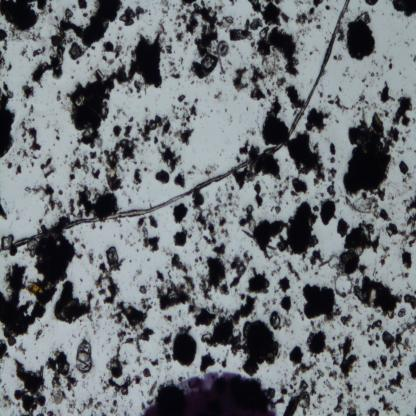Background material: (67, 28, 165, 151), (0, 229, 75, 339), (30, 0, 125, 85), (341, 109, 398, 198), (186, 0, 220, 85), (240, 321, 282, 376), (354, 275, 404, 320), (193, 240, 230, 300), (258, 25, 299, 79), (240, 217, 288, 263), (191, 191, 237, 239), (101, 136, 139, 193), (284, 200, 320, 260), (290, 130, 328, 185), (13, 355, 47, 416), (154, 266, 197, 314), (94, 246, 128, 304), (54, 278, 92, 328), (67, 182, 119, 218), (333, 217, 382, 253), (199, 314, 242, 355), (300, 284, 344, 324), (258, 95, 291, 146), (346, 10, 378, 62), (23, 182, 67, 218), (333, 379, 371, 416), (0, 0, 48, 28), (106, 330, 135, 376), (46, 349, 78, 389), (286, 358, 322, 393), (237, 158, 279, 188), (0, 81, 15, 161), (106, 302, 146, 332), (68, 149, 102, 183), (171, 321, 196, 366), (20, 119, 42, 170), (230, 249, 256, 291), (396, 196, 416, 248), (379, 330, 406, 368), (135, 216, 161, 252), (322, 253, 361, 277), (171, 92, 198, 126), (339, 335, 359, 380), (302, 104, 332, 134), (258, 295, 282, 330), (76, 396, 118, 416), (372, 370, 406, 394), (230, 295, 259, 323), (99, 376, 135, 398), (188, 300, 216, 328), (356, 319, 384, 346), (282, 390, 310, 416), (158, 142, 183, 171), (136, 114, 160, 144), (247, 267, 272, 294), (165, 43, 180, 87), (0, 27, 14, 74), (392, 96, 413, 127), (100, 40, 124, 67), (396, 310, 416, 342), (250, 65, 266, 104), (76, 338, 93, 374), (229, 18, 252, 44), (135, 324, 156, 352), (398, 161, 416, 193), (330, 274, 354, 297), (238, 136, 260, 161), (118, 7, 148, 25), (308, 331, 327, 359), (324, 344, 338, 381), (319, 199, 338, 226), (377, 395, 401, 416), (239, 205, 256, 234), (88, 300, 102, 335), (20, 45, 47, 63), (262, 3, 282, 27), (160, 326, 172, 366), (286, 86, 304, 112), (295, 6, 318, 26), (171, 252, 191, 275), (391, 0, 416, 18), (350, 94, 380, 109), (232, 65, 247, 94), (378, 80, 396, 104), (273, 182, 289, 206), (252, 179, 265, 208), (174, 127, 196, 144), (172, 228, 191, 247), (215, 13, 234, 32), (288, 344, 304, 366), (134, 354, 159, 368), (160, 113, 174, 137), (367, 354, 388, 370), (199, 352, 215, 373), (18, 83, 36, 101), (291, 178, 308, 197), (172, 203, 188, 223), (310, 248, 325, 269), (38, 158, 55, 176), (384, 222, 401, 240), (380, 242, 392, 266), (400, 248, 413, 270), (0, 338, 11, 364), (172, 172, 187, 191), (280, 295, 294, 315), (287, 262, 300, 283), (69, 42, 85, 59), (6, 28, 24, 43), (201, 162, 219, 177), (279, 276, 292, 296), (155, 169, 170, 186), (248, 0, 263, 16), (297, 25, 313, 40), (132, 166, 144, 186), (335, 95, 349, 112), (211, 301, 228, 315), (0, 232, 13, 250), (370, 196, 380, 219), (23, 28, 42, 40), (403, 293, 416, 310), (0, 197, 9, 221), (249, 16, 263, 31), (2, 394, 15, 410), (155, 18, 166, 36), (84, 287, 95, 305), (340, 312, 352, 328), (407, 360, 416, 381), (67, 396, 77, 414), (161, 0, 171, 18), (37, 216, 47, 233), (112, 108, 126, 120), (279, 379, 288, 397), (360, 261, 370, 277), (380, 210, 392, 223), (402, 338, 413, 352), (15, 342, 26, 356), (141, 297, 152, 311), (179, 0, 198, 8), (336, 27, 346, 42), (124, 124, 134, 139), (327, 183, 336, 199), (272, 261, 281, 277), (186, 165, 199, 176), (131, 267, 141, 281), (251, 42, 258, 62), (218, 58, 226, 75), (323, 380, 334, 392), (33, 329, 44, 341), (375, 188, 386, 200), (316, 392, 326, 405), (64, 8, 74, 20), (328, 167, 336, 182), (366, 407, 379, 416), (184, 38, 192, 52), (285, 316, 293, 330), (174, 32, 184, 43), (162, 312, 172, 323), (281, 13, 290, 25), (112, 218, 122, 228), (276, 76, 286, 86), (78, 0, 88, 10), (138, 284, 148, 294), (126, 85, 136, 95), (11, 246, 20, 257), (330, 142, 337, 156), (136, 374, 144, 386), (88, 249, 94, 265), (125, 238, 135, 247), (400, 271, 410, 280), (214, 90, 223, 100), (7, 336, 16, 346), (176, 13, 187, 21), (309, 319, 316, 331), (47, 2, 54, 14), (270, 207, 282, 214), (365, 0, 379, 6), (302, 262, 309, 274), (56, 90, 62, 103), (406, 281, 413, 292), (266, 88, 273, 99), (15, 164, 22, 175), (272, 285, 280, 294), (312, 0, 322, 7), (221, 359, 228, 369), (298, 310, 304, 321), (276, 400, 284, 408), (54, 133, 62, 141), (125, 196, 133, 204), (371, 59, 379, 67), (61, 391, 68, 400), (77, 251, 84, 260), (7, 160, 13, 170), (46, 410, 56, 416), (140, 400, 146, 410), (217, 4, 224, 12), (226, 59, 234, 66), (238, 292, 245, 300), (296, 0, 304, 7), (334, 54, 341, 62), (1, 384, 7, 393), (248, 130, 257, 136), (372, 267, 378, 276), (295, 194, 300, 204), (29, 106, 36, 113), (337, 332, 343, 340), (361, 75, 367, 83), (379, 225, 385, 233), (90, 222, 96, 230), (328, 157, 336, 163), (388, 62, 394, 70), (312, 402, 318, 410), (362, 192, 368, 200), (382, 54, 388, 62), (316, 321, 322, 329), (228, 0, 237, 5), (370, 8, 379, 13), (74, 59, 80, 66), (75, 238, 81, 245), (327, 100, 334, 106), (81, 12, 88, 18), (405, 127, 411, 134), (344, 66, 350, 73), (353, 112, 360, 118), (179, 57, 185, 64), (14, 151, 22, 156), (368, 374, 374, 380), (80, 381, 86, 387), (135, 186, 141, 192), (284, 175, 288, 184), (348, 306, 354, 312), (300, 43, 304, 52), (324, 5, 330, 11), (143, 166, 149, 172), (275, 0, 282, 5), (129, 115, 134, 122), (122, 409, 127, 416), (116, 35, 123, 40), (302, 408, 306, 416), (72, 390, 76, 398), (402, 137, 406, 145), (320, 91, 324, 99), (396, 150, 404, 154), (80, 372, 85, 378), (404, 41, 410, 46), (319, 192, 324, 198), (308, 50, 313, 56), (54, 16, 59, 22), (413, 54, 416, 64), (342, 72, 347, 78), (370, 72, 376, 77), (390, 194, 396, 199), (329, 324, 335, 329), (216, 358, 221, 364), (230, 185, 235, 191), (56, 410, 62, 415), (327, 412, 334, 416), (376, 73, 380, 80), (230, 113, 233, 122), (265, 0, 274, 3), (260, 103, 265, 108), (338, 87, 343, 92), (145, 257, 150, 262), (86, 52, 90, 58), (354, 368, 358, 374), (88, 66, 92, 72), (140, 390, 144, 396), (332, 335, 336, 341), (412, 118, 416, 124), (99, 224, 103, 230), (82, 243, 86, 249), (414, 405, 416, 416), (413, 289, 416, 296), (234, 95, 237, 102), (396, 273, 400, 278), (178, 22, 182, 27), (178, 9, 183, 13), (120, 235, 124, 240), (79, 277, 83, 282), (327, 95, 332, 99), (126, 46, 130, 51), (314, 194, 318, 199), (70, 75, 74, 80), (219, 0, 223, 5), (314, 271, 318, 276), (64, 154, 69, 158), (324, 41, 330, 44), (413, 148, 416, 154), (174, 28, 178, 32), (54, 128, 58, 132), (144, 108, 148, 112), (308, 412, 312, 416), (128, 259, 132, 263), (92, 46, 96, 50), (357, 364, 361, 368), (365, 84, 369, 88), (23, 103, 27, 107), (388, 58, 392, 62), (406, 22, 410, 26), (170, 37, 173, 42), (44, 324, 49, 327), (407, 147, 412, 150), (246, 107, 249, 112), (336, 119, 339, 124), (400, 88, 403, 93), (318, 25, 321, 30), (351, 76, 354, 81), (226, 349, 228, 356), (149, 9, 151, 16), (240, 54, 243, 58), (60, 345, 63, 349), (358, 6, 361, 10), (174, 22, 177, 26), (73, 5, 76, 9), (70, 140, 73, 144), (119, 27, 122, 31), (391, 12, 394, 16), (399, 71, 402, 75), (380, 65, 384, 68), (363, 354, 366, 358), (172, 3, 175, 7), (352, 324, 355, 328), (170, 18, 173, 22), (411, 38, 414, 42), (390, 270, 393, 274), (36, 355, 38, 360), (414, 165, 416, 170), (409, 389, 411, 394), (389, 43, 392, 46), (225, 109, 228, 112), (410, 54, 413, 57), (381, 73, 384, 76), (232, 45, 235, 48), (358, 0, 361, 3), (382, 12, 384, 16), (286, 158, 288, 162), (223, 79, 225, 83), (396, 32, 398, 36), (327, 407, 329, 411), (346, 18, 350, 20), (398, 16, 402, 18), (182, 66, 184, 70), (400, 132, 403, 134), (0, 379, 2, 382), (298, 287, 301, 289), (405, 26, 408, 28), (391, 110, 393, 112), (414, 68, 416, 70), (211, 110, 212, 112), (209, 116, 210, 118)
Diatom: (216, 39, 230, 56), (53, 392, 63, 405), (149, 381, 157, 396), (345, 195, 353, 209), (112, 126, 122, 136), (143, 368, 151, 378)
Microfibre: (0, 0, 349, 254)
Pen: (143, 372, 278, 416)
